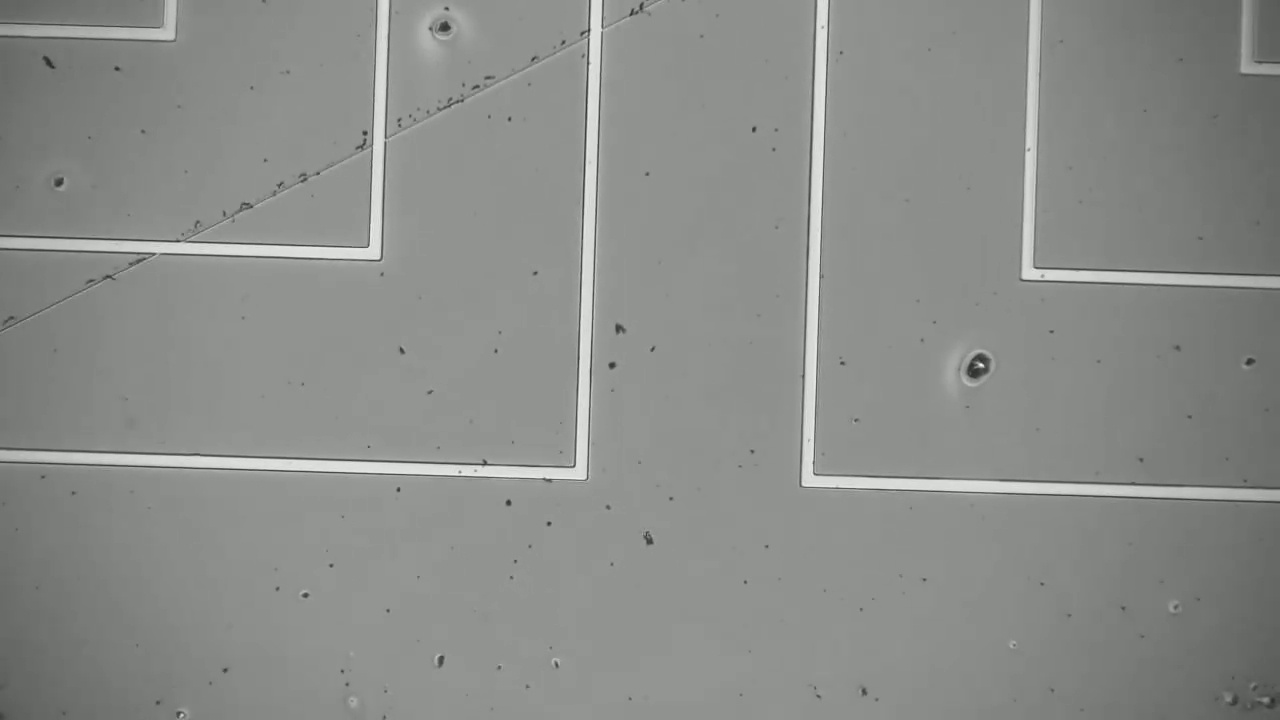scratch: (2, 7, 644, 332)
